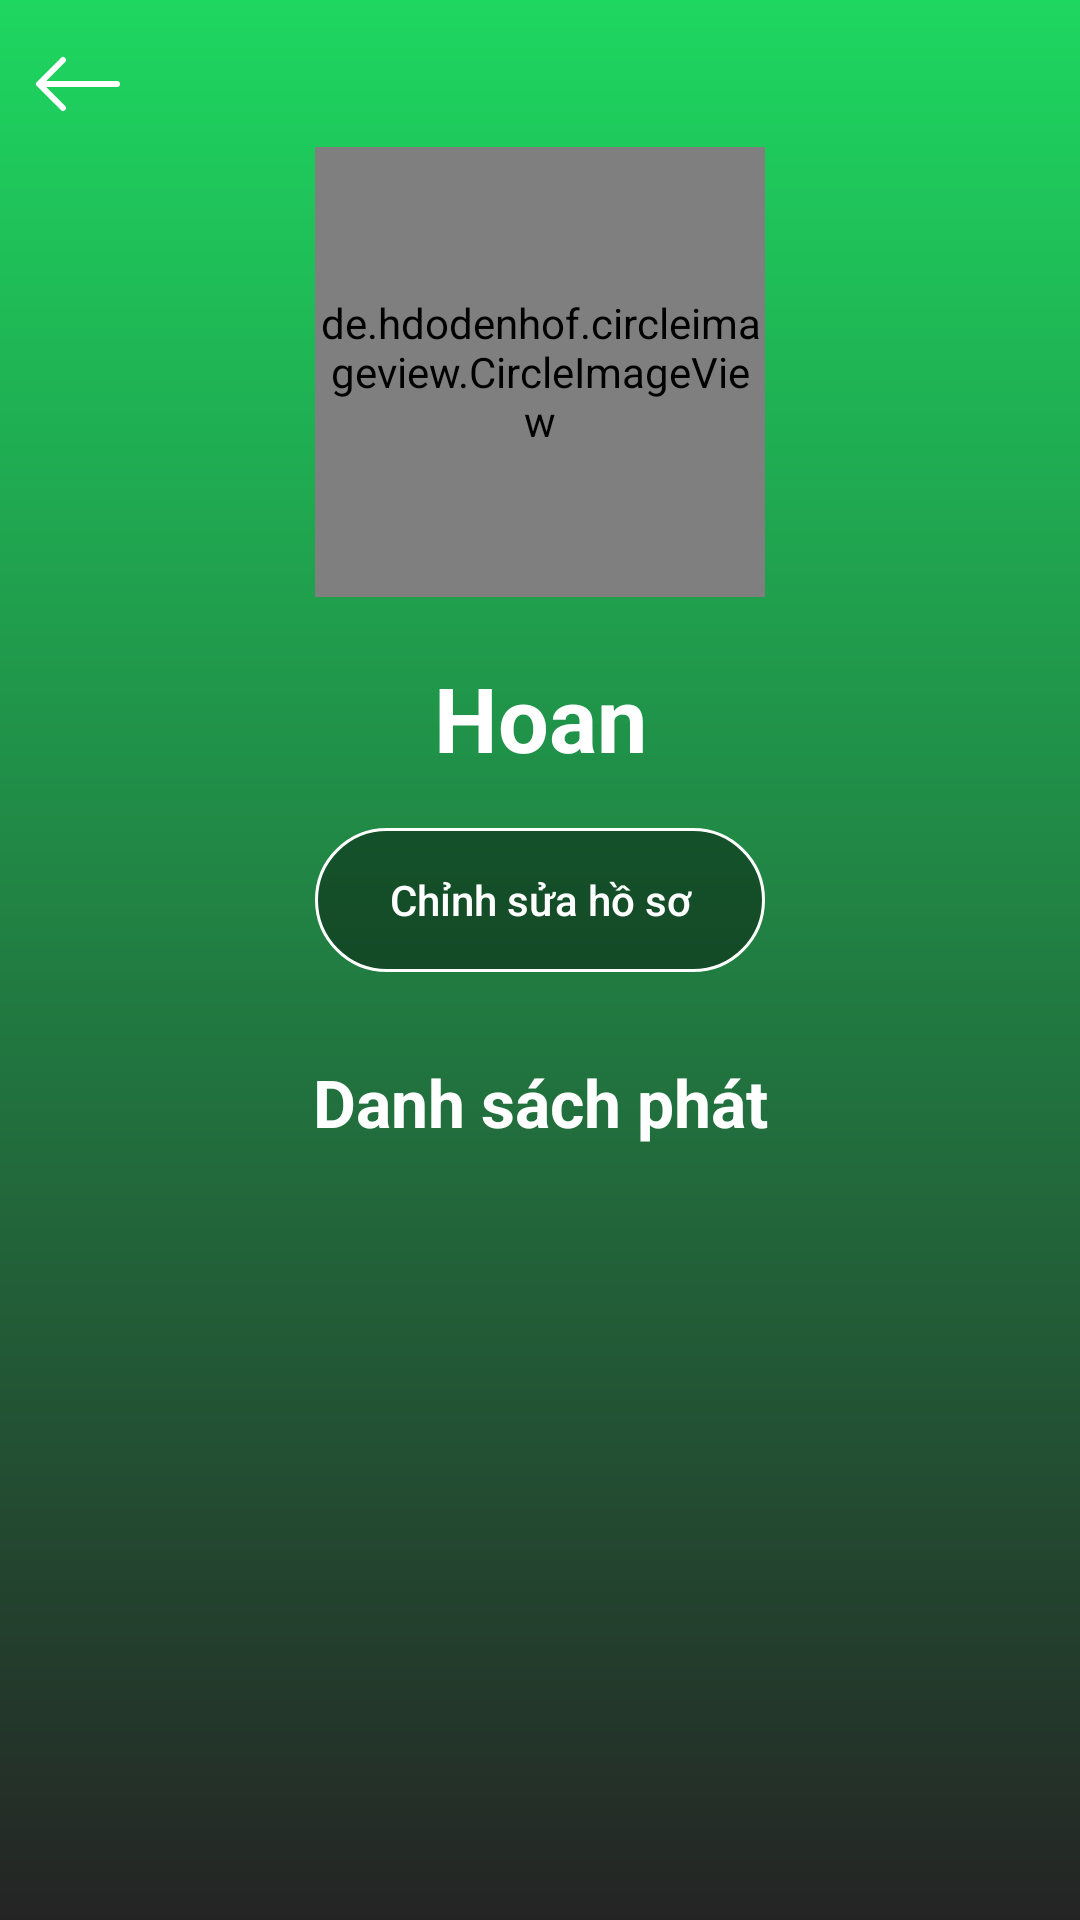

Icon click points for this 1080w x 1920h phone screenshot, format (x,y):
arrow left: (78,83)
